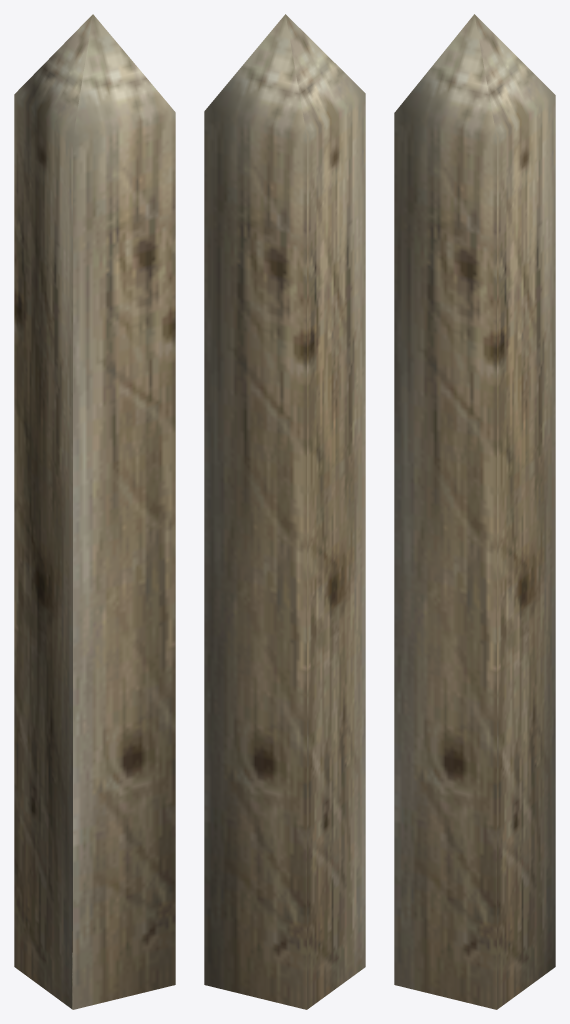
The model's file is westfallfencepost.glb.
3 views of the same model, side by side, from view 1: azimuth 30°, elevation 25°; view 2: azimuth 150°, elevation 25°; view 3: azimuth 330°, elevation 25° (orthographic).
Size of the model in its own units: 0.2748 by 2.46 by 0.2725.
Materials: 1 (1 with a texture image).
